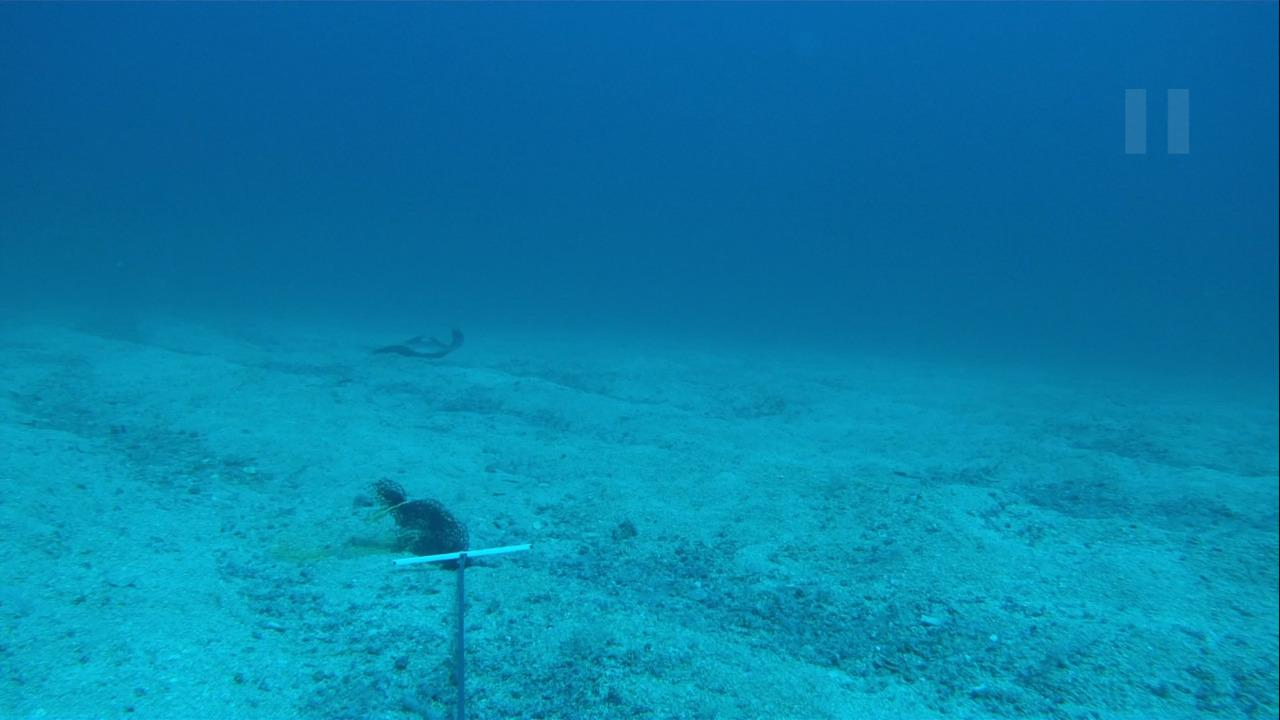myliobatis: (355, 317, 472, 363)
